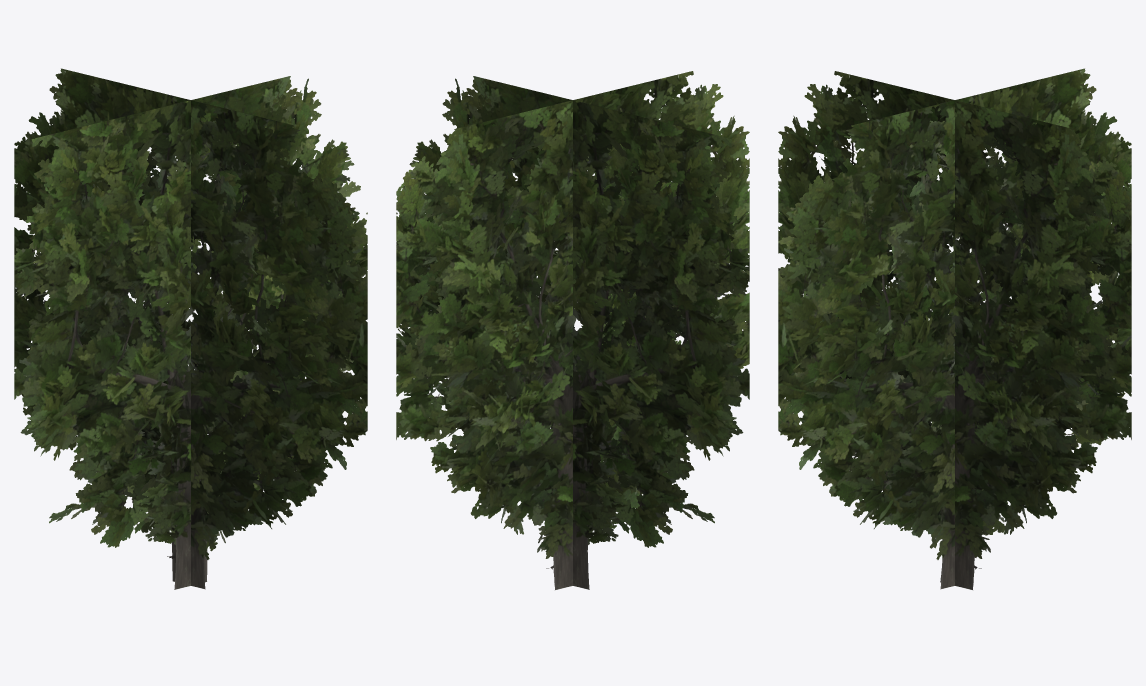
Rendered from lipa_stara_daleko.glb.
3 views of the same model, side by side, from view 1: azimuth 30°, elevation 25°; view 2: azimuth 150°, elevation 25°; view 3: azimuth 270°, elevation 25° (orthographic).
Visible parts, largest first — view 1: lipa_stara_daleko; view 2: lipa_stara_daleko; view 3: lipa_stara_daleko.
Part boxes in pixels (x1,y1,x2,y2): lipa_stara_daleko: (14, 68, 367, 589); lipa_stara_daleko: (396, 71, 749, 589); lipa_stara_daleko: (778, 68, 1131, 589).
Size of the model in its own units: 16.97 by 22.3 by 14.69.
Materials: 3 (3 with a texture image).
